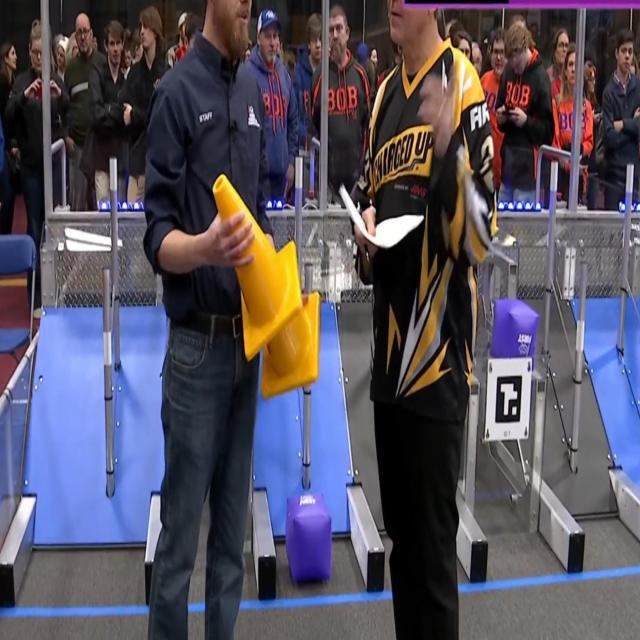frc_cone: (210, 170, 302, 365), (256, 286, 319, 401)
frc_cube: (285, 493, 333, 583), (490, 297, 538, 366)
